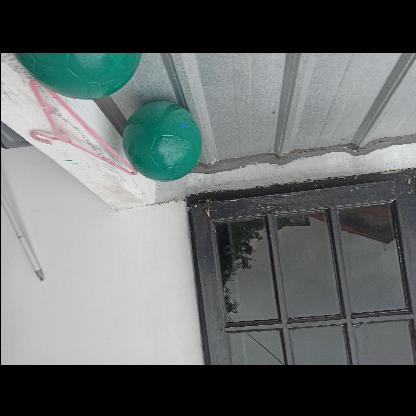green_ball: (123, 103, 201, 181)
